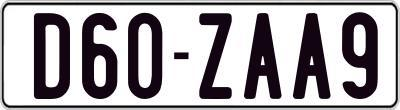0: (128, 12, 163, 103)
6: (79, 11, 114, 102)
9: (340, 12, 380, 105)
A: (290, 13, 329, 100), (242, 11, 280, 98)
D: (31, 12, 72, 99)
Z: (198, 11, 235, 99)
